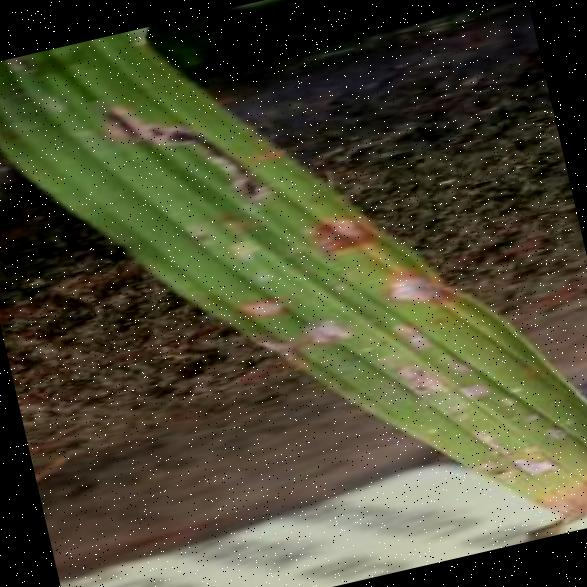Leaf_smut: (88, 58, 274, 226), (367, 244, 463, 324), (268, 295, 362, 368), (303, 190, 382, 268), (234, 266, 303, 339)
